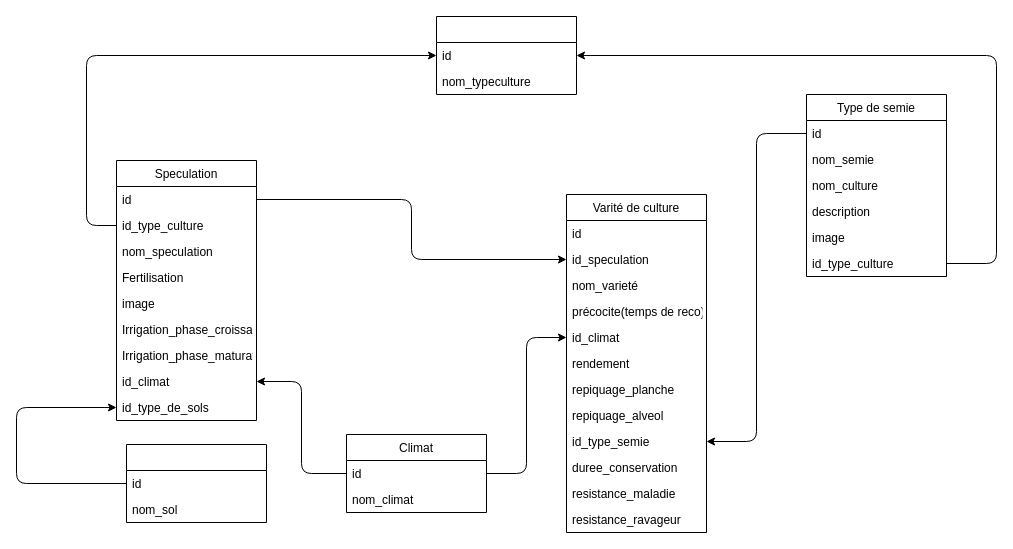
Image size: 1013x549. Some labels were removed from this diagram. Each missing label, with the box of its shape:
Sols: (126, 444, 266, 522)
TypesCulture: (436, 16, 576, 94)
